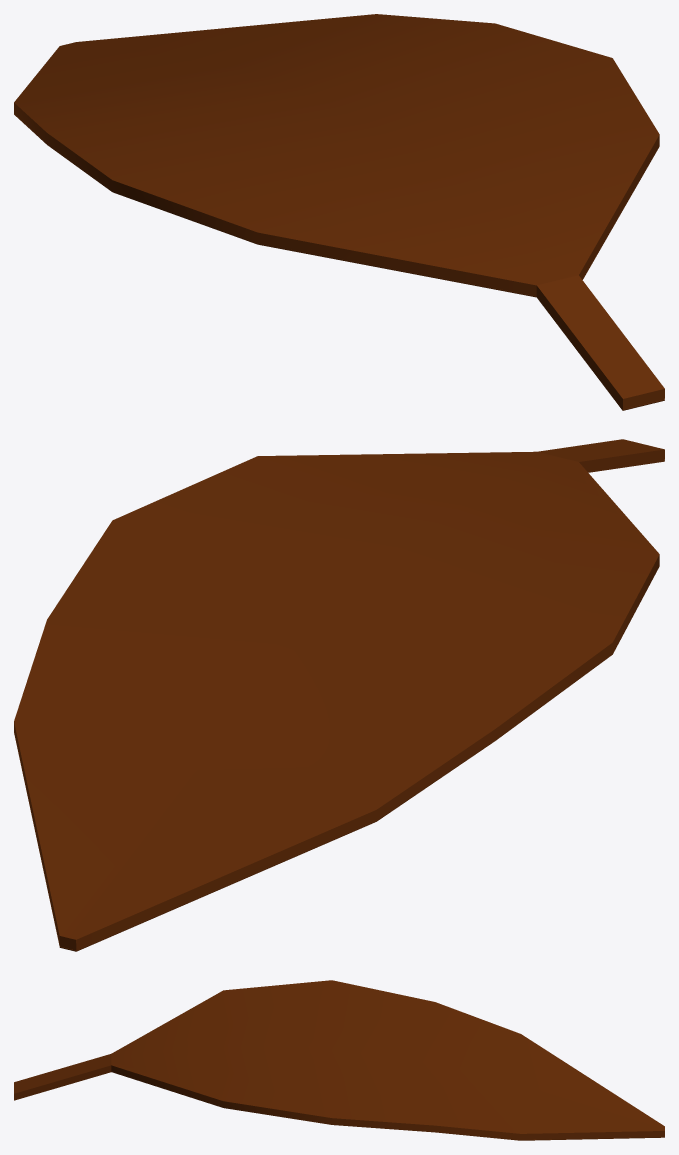
The model's file is leaf_curved.fbx.
The picture shows the model from 3 angles, top to bottom: view 1: azimuth 30°, elevation 25°; view 2: azimuth 150°, elevation 25°; view 3: azimuth 270°, elevation 25°; orthographic projection. The views are drawn at different scales.
Visible parts, largest first — view 1: pPlane3; view 2: pPlane3; view 3: pPlane3.
Part boxes in pixels (box(x1,y1,x2,y2)): pPlane3: box(14, 14, 664, 410); pPlane3: box(14, 439, 664, 951); pPlane3: box(14, 980, 664, 1140).
Size of the model in its own units: 6.83 by 2.07 by 13.62.
